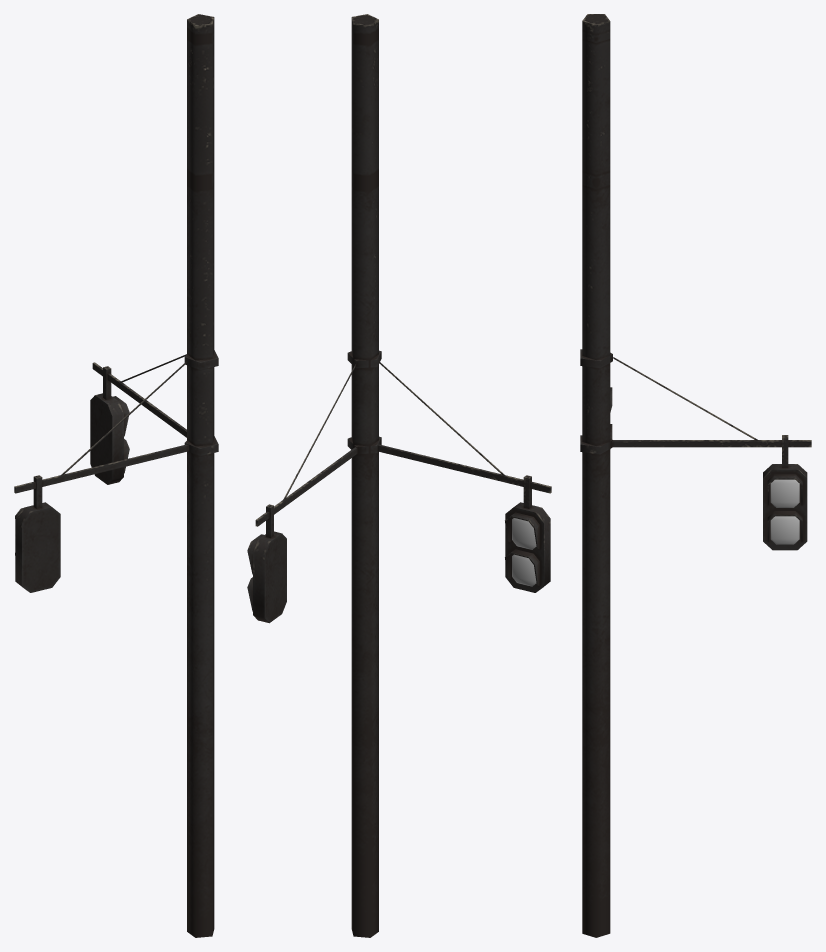
The model's file is jctlowTrafficLightC.fbx.
3 renders of one model, left to right at view 1: azimuth 30°, elevation 25°; view 2: azimuth 150°, elevation 25°; view 3: azimuth 270°, elevation 25°, orthographic.
Parts seen in each view (by area): view 1: jctlowTrafficLightC; view 2: jctlowTrafficLightC; view 3: jctlowTrafficLightC.
Part boxes in pixels (box(x1,y1,x2,y2)): jctlowTrafficLightC: box(14, 14, 218, 937); jctlowTrafficLightC: box(247, 14, 551, 937); jctlowTrafficLightC: box(580, 14, 811, 937).
Bounding box in the file's own units: 174 × 752 × 173.
